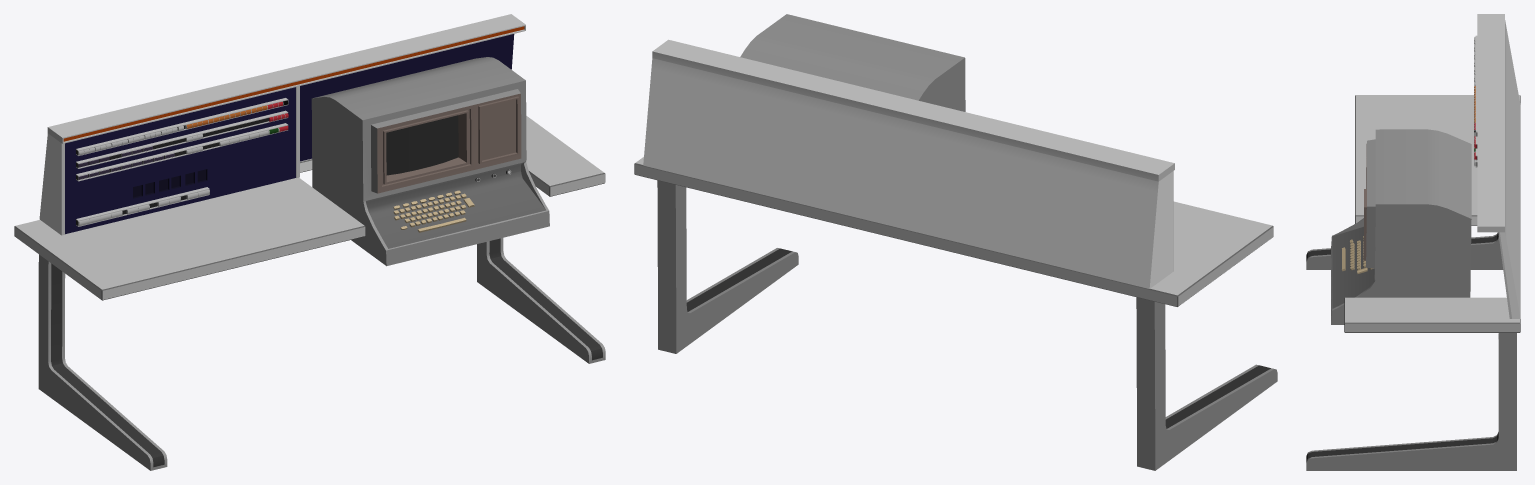
File: Univac_CPU.glb
3 renders of one model, left to right at view 1: azimuth 30°, elevation 25°; view 2: azimuth 150°, elevation 25°; view 3: azimuth 270°, elevation 25°, orthographic. The views are drawn at different scales.
Visible parts, largest first — view 1: Cube.002; view 2: Cube.002; view 3: Cube.002.
Part boxes in pixels (x1=…): Cube.002: x1=14, y1=14, x2=605, y2=470; Cube.002: x1=634, y1=14, x2=1277, y2=470; Cube.002: x1=1306, y1=14, x2=1520, y2=470.
Size of the model in its own units: 2.34 by 1.19 by 0.9306.
